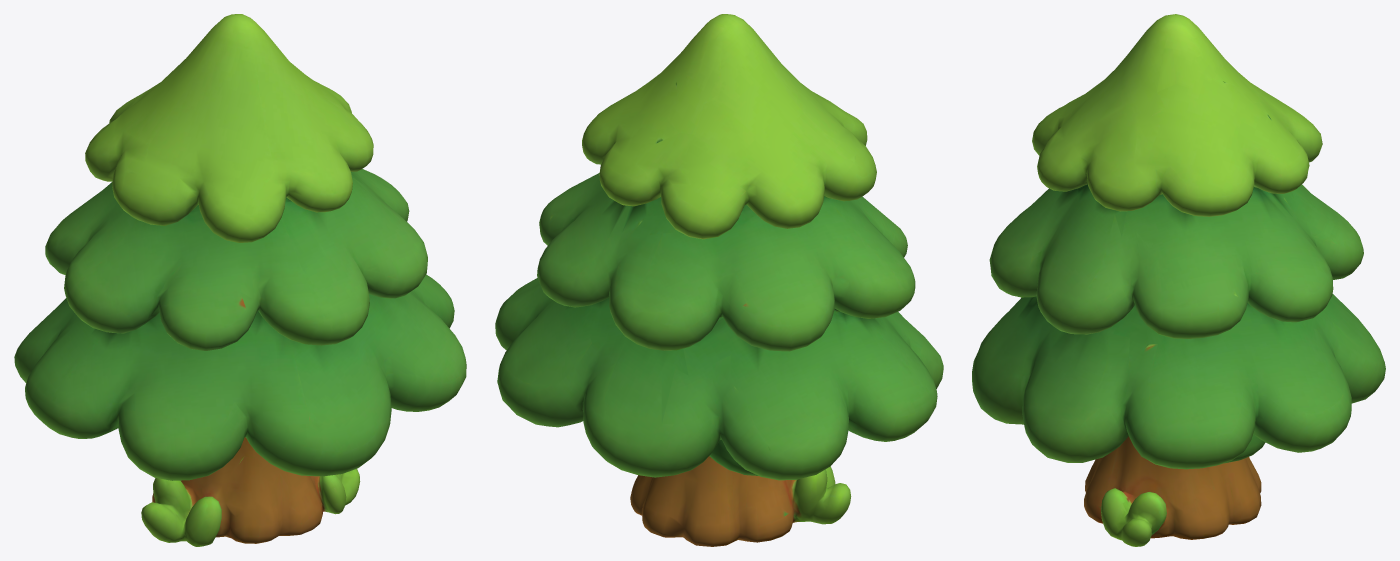
3 views of the same model, side by side, from view 1: azimuth 30°, elevation 25°; view 2: azimuth 150°, elevation 25°; view 3: azimuth 270°, elevation 25° (orthographic).
Parts seen in each view (by area): view 1: tree-pine; view 2: tree-pine; view 3: tree-pine.
Part boxes in pixels (bbox=[...]): tree-pine: bbox=[14, 14, 466, 546]; tree-pine: bbox=[495, 14, 943, 546]; tree-pine: bbox=[972, 14, 1385, 546].
Bounding box in the file's own units: 5.22 × 6 × 4.62.
Materials: 1 (1 with a texture image).
